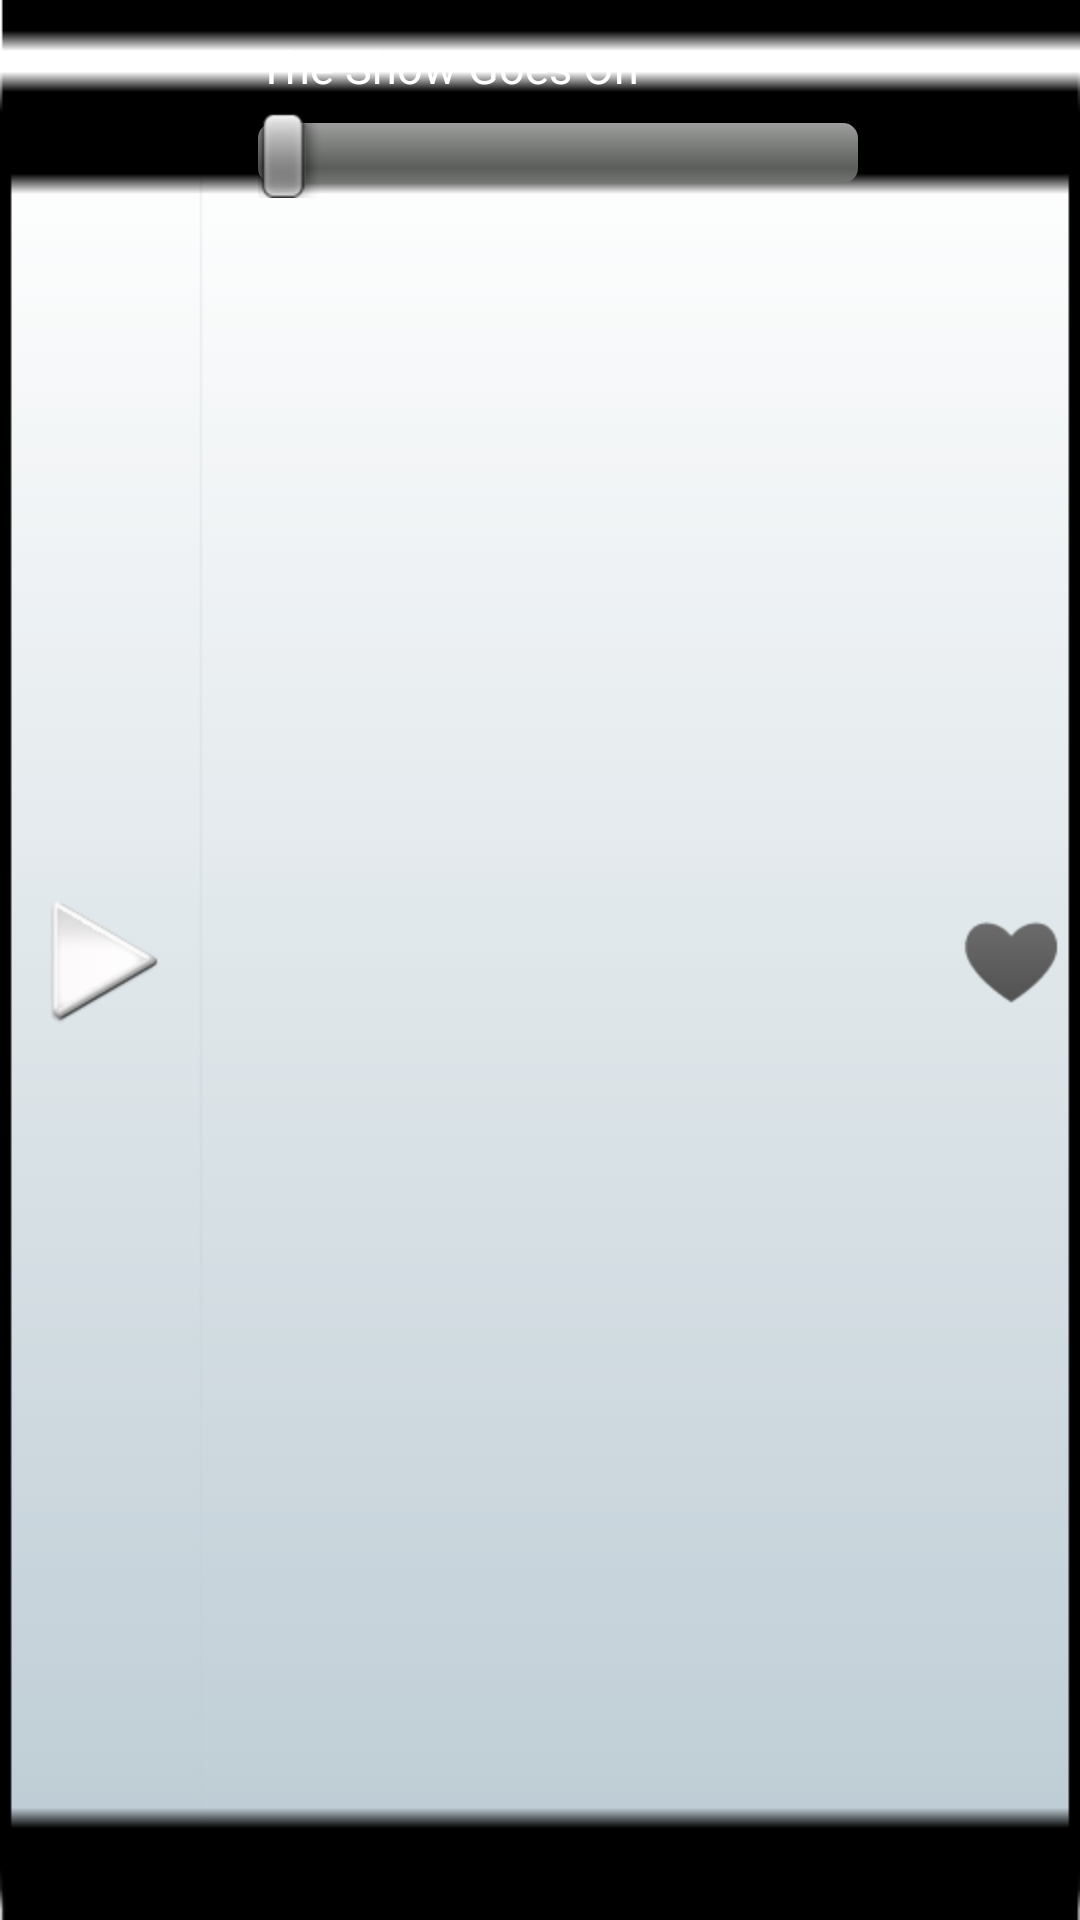

Icon bounding boxes for this 1080px x 1920px phone screenshot, format (x1, y1, x2, y2):
favorate: (964, 922, 1058, 1003)
play: (52, 904, 158, 1021)
